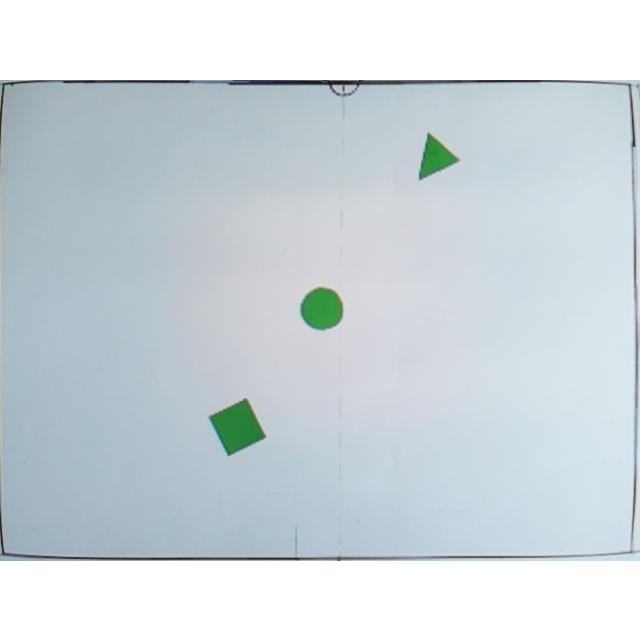greenCircle: (301, 284, 345, 330)
greenSquare: (209, 394, 269, 456)
greenTriangle: (418, 130, 462, 184)
